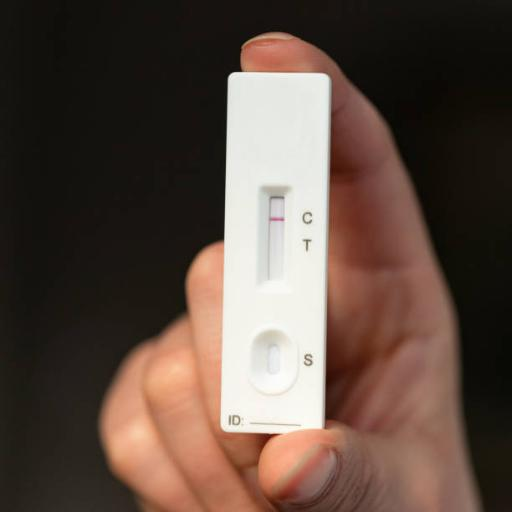Neg: (226, 71, 328, 437)
